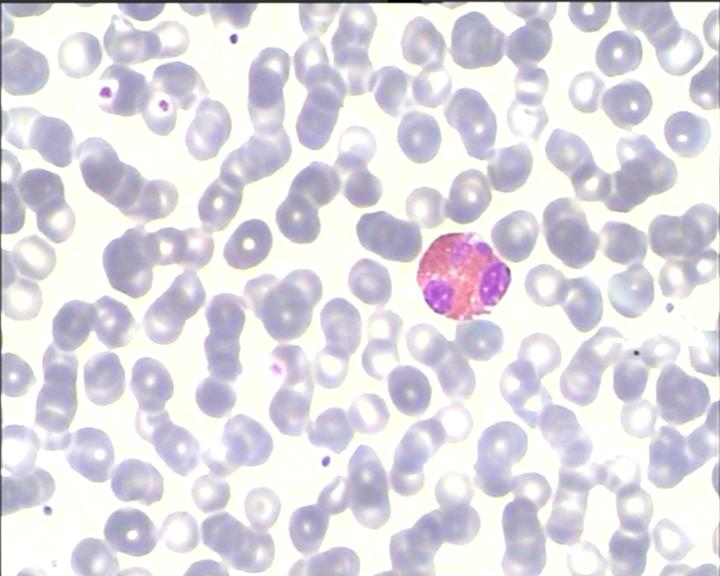eosi: (408, 228, 513, 325)
